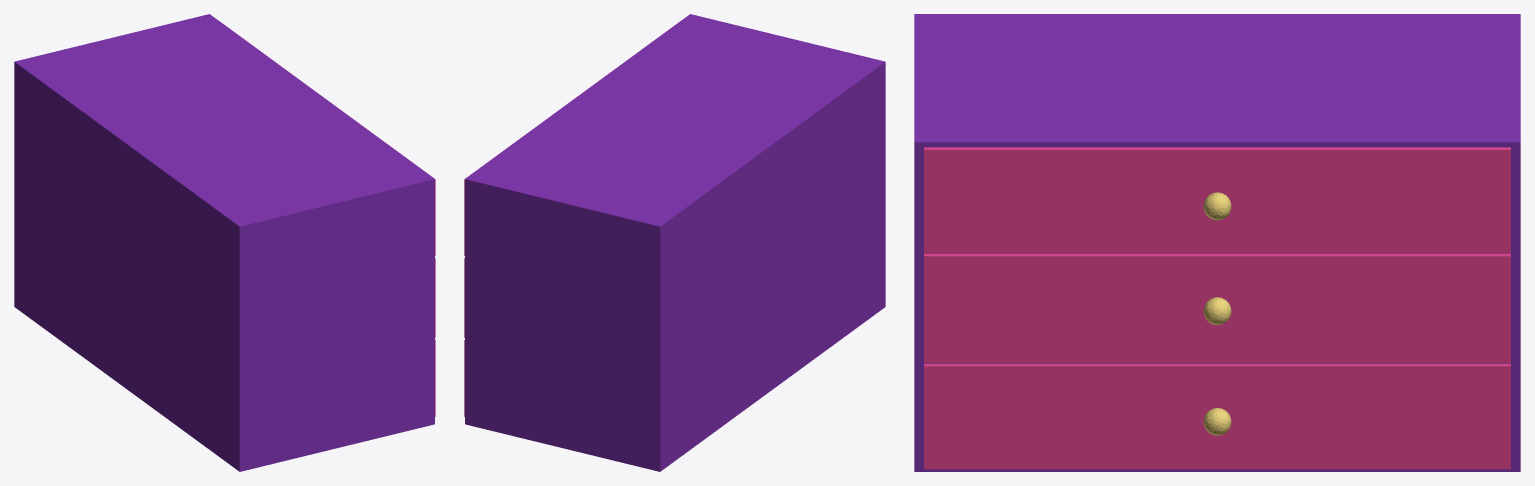
File: Drawer.fbx
The picture shows the model from 3 angles, left to right: view 1: azimuth 30°, elevation 25°; view 2: azimuth 150°, elevation 25°; view 3: azimuth 270°, elevation 25°; orthographic projection. The views are drawn at different scales.
Parts seen in each view (by area): view 1: Drawer; view 2: Drawer; view 3: Drawer, Ball2, Ball3, Ball1.
Part boxes in pixels (x1,y1,x2,y2): Drawer: [14, 14, 435, 471]; Drawer: [464, 14, 885, 471]; Drawer: [914, 14, 1520, 471]; Ball2: [1203, 297, 1231, 324]; Ball3: [1203, 192, 1231, 220]; Ball1: [1203, 408, 1231, 435].
Bounding box in the file's own units: 109 × 120 × 200.
